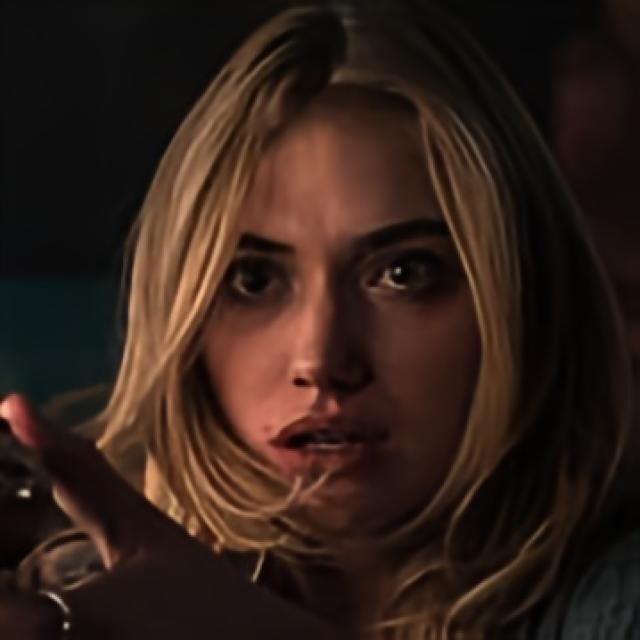fear: (200, 105, 493, 533)
